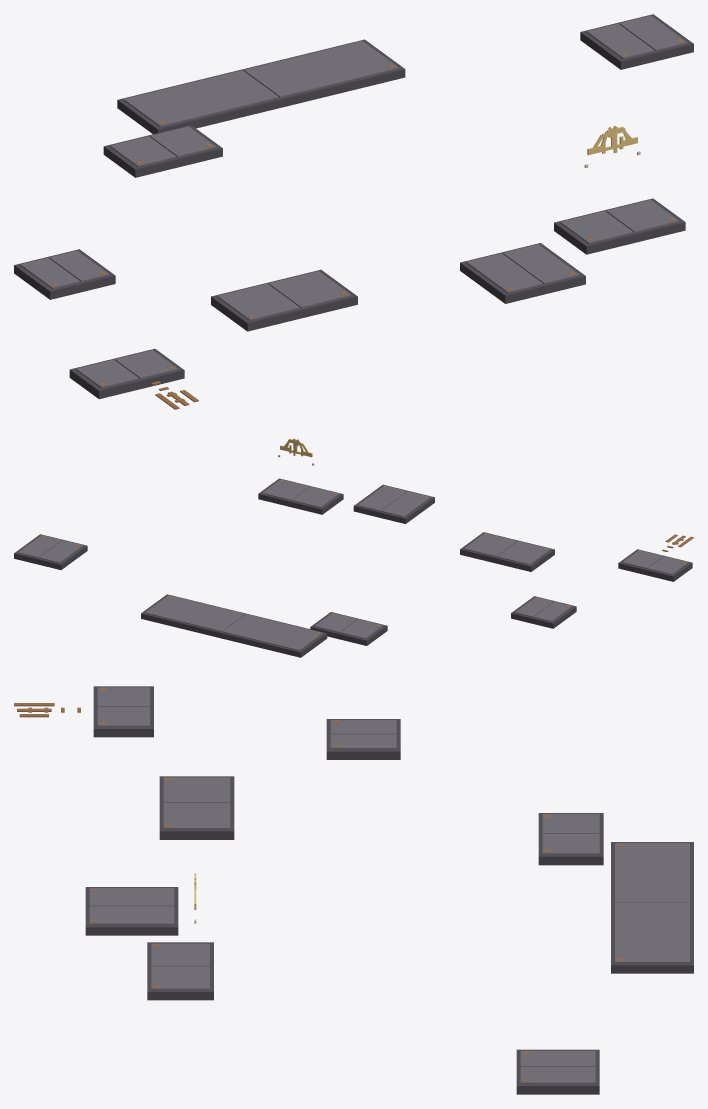
Rendered from R12-architecture.glb.
3 views of the same model, one above another, from view 1: azimuth 30°, elevation 25°; view 2: azimuth 150°, elevation 25°; view 3: azimuth 270°, elevation 25° (orthographic). The views are drawn at different scales.
Parts seen in each view (by area): view 1: Iron gate foundation • seat 2, Iron gate foundation • seat 1, Iron gate foundation • bedding, Validation desk plinth • bedding, Mural stand base • bedding, Seal pedestal flag • bedding, Validation desk plinth • seat 2, Validation desk plinth • seat 1, Threshold tablet base • bedding, Beacon footing • bedding, Seal pedestal flag • seat 1, Seal pedestal flag • seat 2 (+12 smaller); view 2: Iron gate foundation • seat 2, Iron gate foundation • seat 1, Iron gate foundation • bedding, Validation desk plinth • bedding, Mural stand base • bedding, Seal pedestal flag • bedding, Validation desk plinth • seat 1, Validation desk plinth • seat 2, Beacon footing • bedding, Return arch cross-sill • bedding, Seal pedestal flag • seat 2, Seal pedestal flag • seat 1 (+12 smaller); view 3: Iron gate foundation • seat 2, Iron gate foundation • seat 1, Iron gate foundation • bedding, Validation desk plinth • seat 2, Validation desk plinth • seat 1, Seal pedestal flag • seat 2, Seal pedestal flag • seat 1, Seal pedestal flag • bedding, Validation desk plinth • bedding, Beacon footing • bedding, Mural stand base • seat 1, Mural stand base • seat 2 (+12 smaller).
Part boxes in pixels (x1,y1,x2,y2): Iron gate foundation • seat 2: (243, 41, 398, 97); Iron gate foundation • seat 1: (123, 70, 278, 126); Iron gate foundation • bedding: (117, 39, 405, 134); Validation desk plinth • bedding: (211, 269, 357, 331); Mural stand base • bedding: (554, 198, 685, 254); Seal pedestal flag • bedding: (460, 243, 585, 303); Validation desk plinth • seat 2: (268, 271, 351, 308); Validation desk plinth • seat 1: (217, 283, 299, 320); Threshold tablet base • bedding: (103, 125, 222, 177); Beacon footing • bedding: (580, 14, 693, 69); Seal pedestal flag • seat 1: (466, 253, 542, 292); Seal pedestal flag • seat 2: (503, 244, 579, 284); Iron gate foundation • seat 2: (145, 595, 245, 631); Iron gate foundation • seat 1: (222, 614, 322, 650); Iron gate foundation • bedding: (141, 594, 327, 657); Validation desk plinth • bedding: (460, 532, 554, 571); Mural stand base • bedding: (258, 478, 343, 514); Seal pedestal flag • bedding: (353, 484, 434, 523); Validation desk plinth • seat 1: (497, 541, 550, 564); Validation desk plinth • seat 2: (464, 533, 517, 556); Beacon footing • bedding: (14, 534, 87, 569); Return arch cross-sill • bedding: (618, 549, 692, 581); Seal pedestal flag • seat 2: (357, 485, 407, 511); Seal pedestal flag • seat 1: (381, 491, 430, 516); Iron gate foundation • seat 2: (615, 902, 689, 962); Iron gate foundation • seat 1: (615, 843, 689, 902); Iron gate foundation • bedding: (611, 842, 693, 973); Validation desk plinth • seat 2: (163, 803, 230, 829); Validation desk plinth • seat 1: (163, 777, 230, 802); Seal pedestal flag • seat 2: (89, 906, 174, 924); Seal pedestal flag • seat 1: (89, 888, 174, 906); Seal pedestal flag • bedding: (85, 887, 178, 935); Validation desk plinth • bedding: (159, 776, 234, 839); Beacon footing • bedding: (516, 1049, 599, 1094); Mural stand base • seat 1: (151, 943, 209, 966); Mural stand base • seat 2: (151, 966, 209, 989).
Size of the model in its own units: 11.63 by 1.37 by 8.36.
